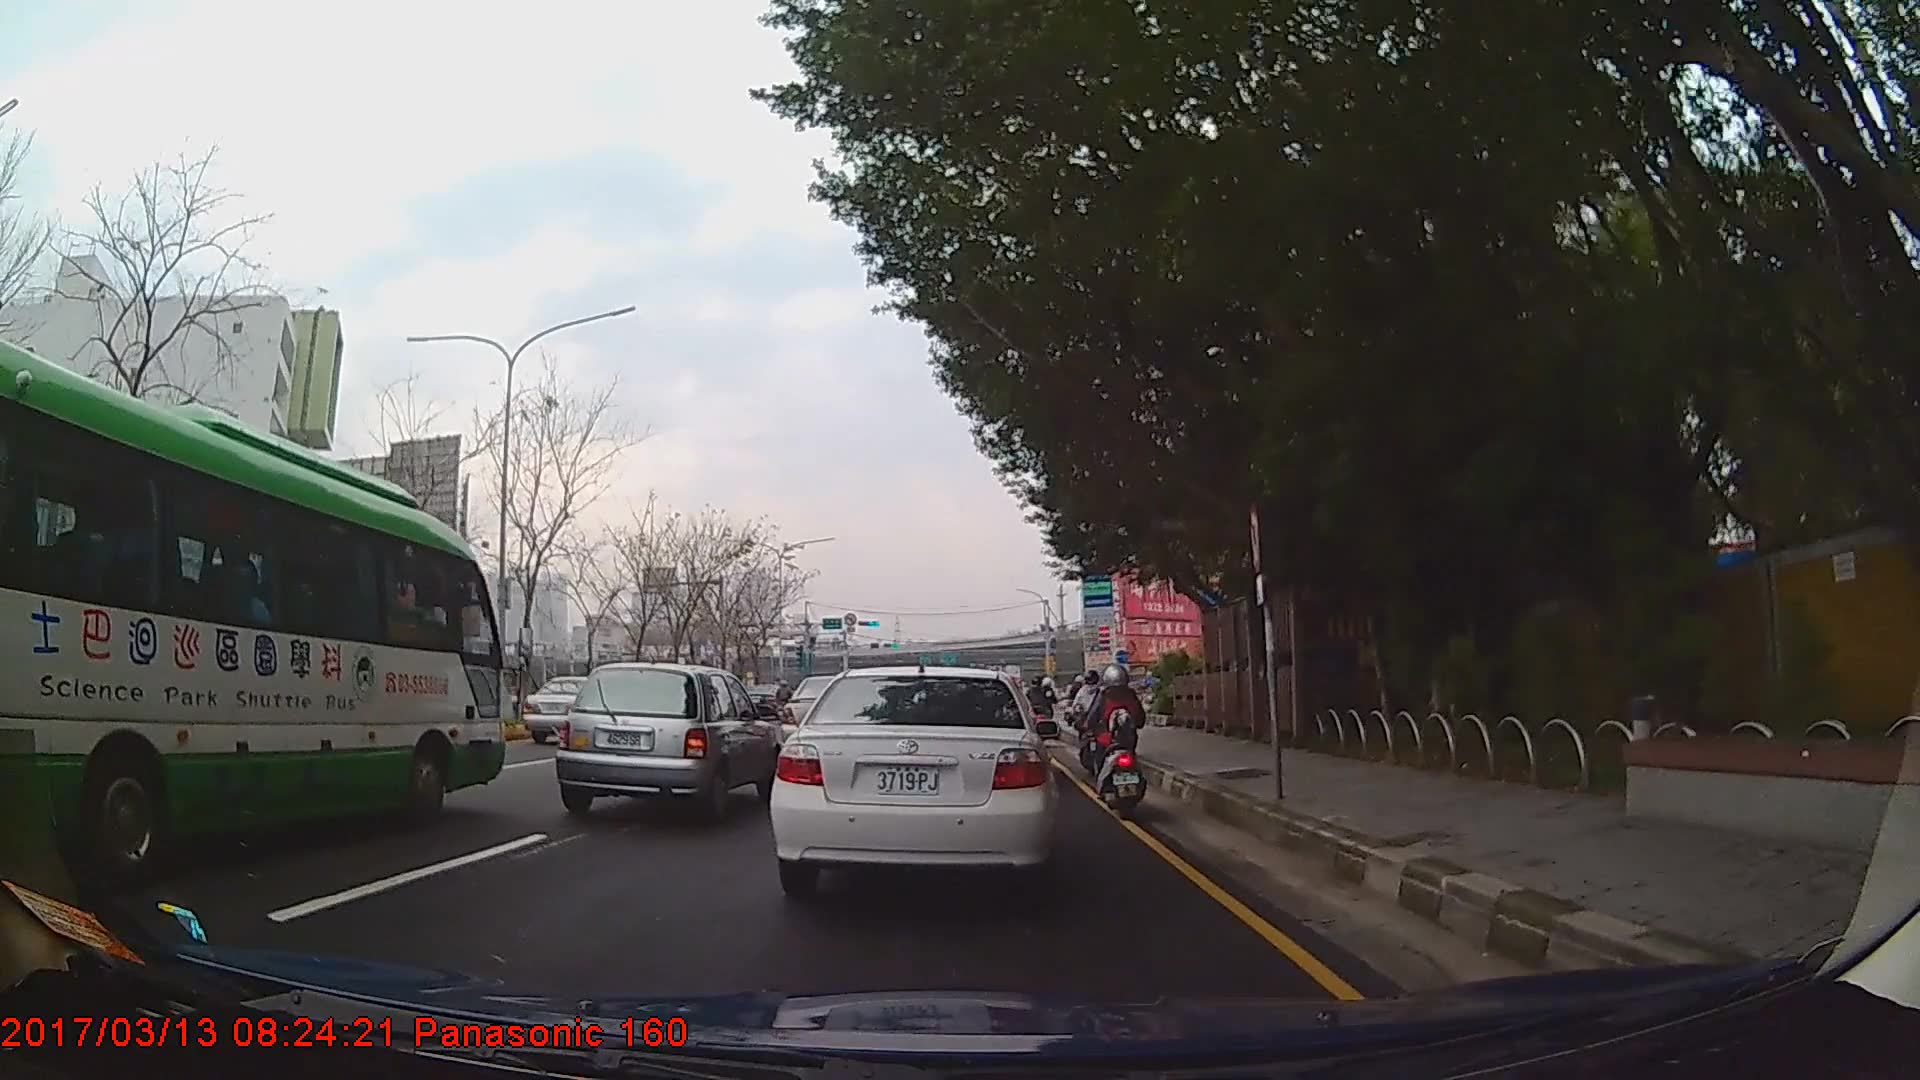rider: (1088, 661, 1150, 817), (1070, 671, 1114, 782), (1027, 676, 1052, 733)
vehicle: (0, 338, 503, 908), (769, 664, 1059, 897), (552, 663, 779, 825), (522, 673, 593, 745), (739, 682, 791, 718)
